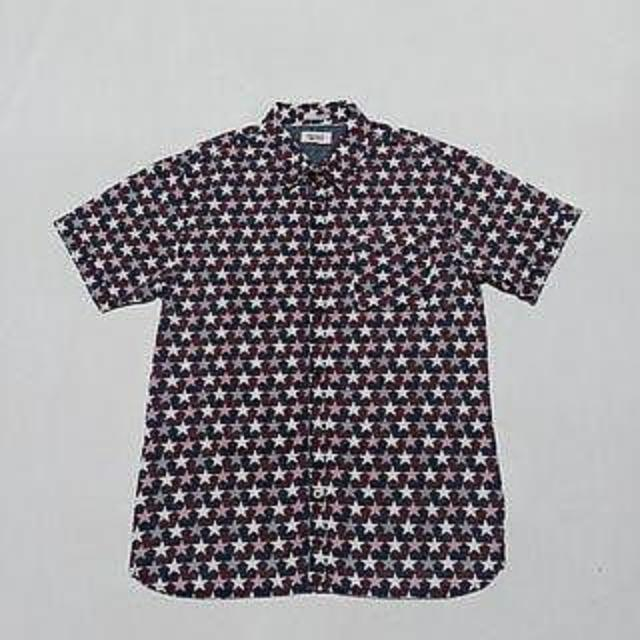SHIRT: (28, 84, 599, 598)
